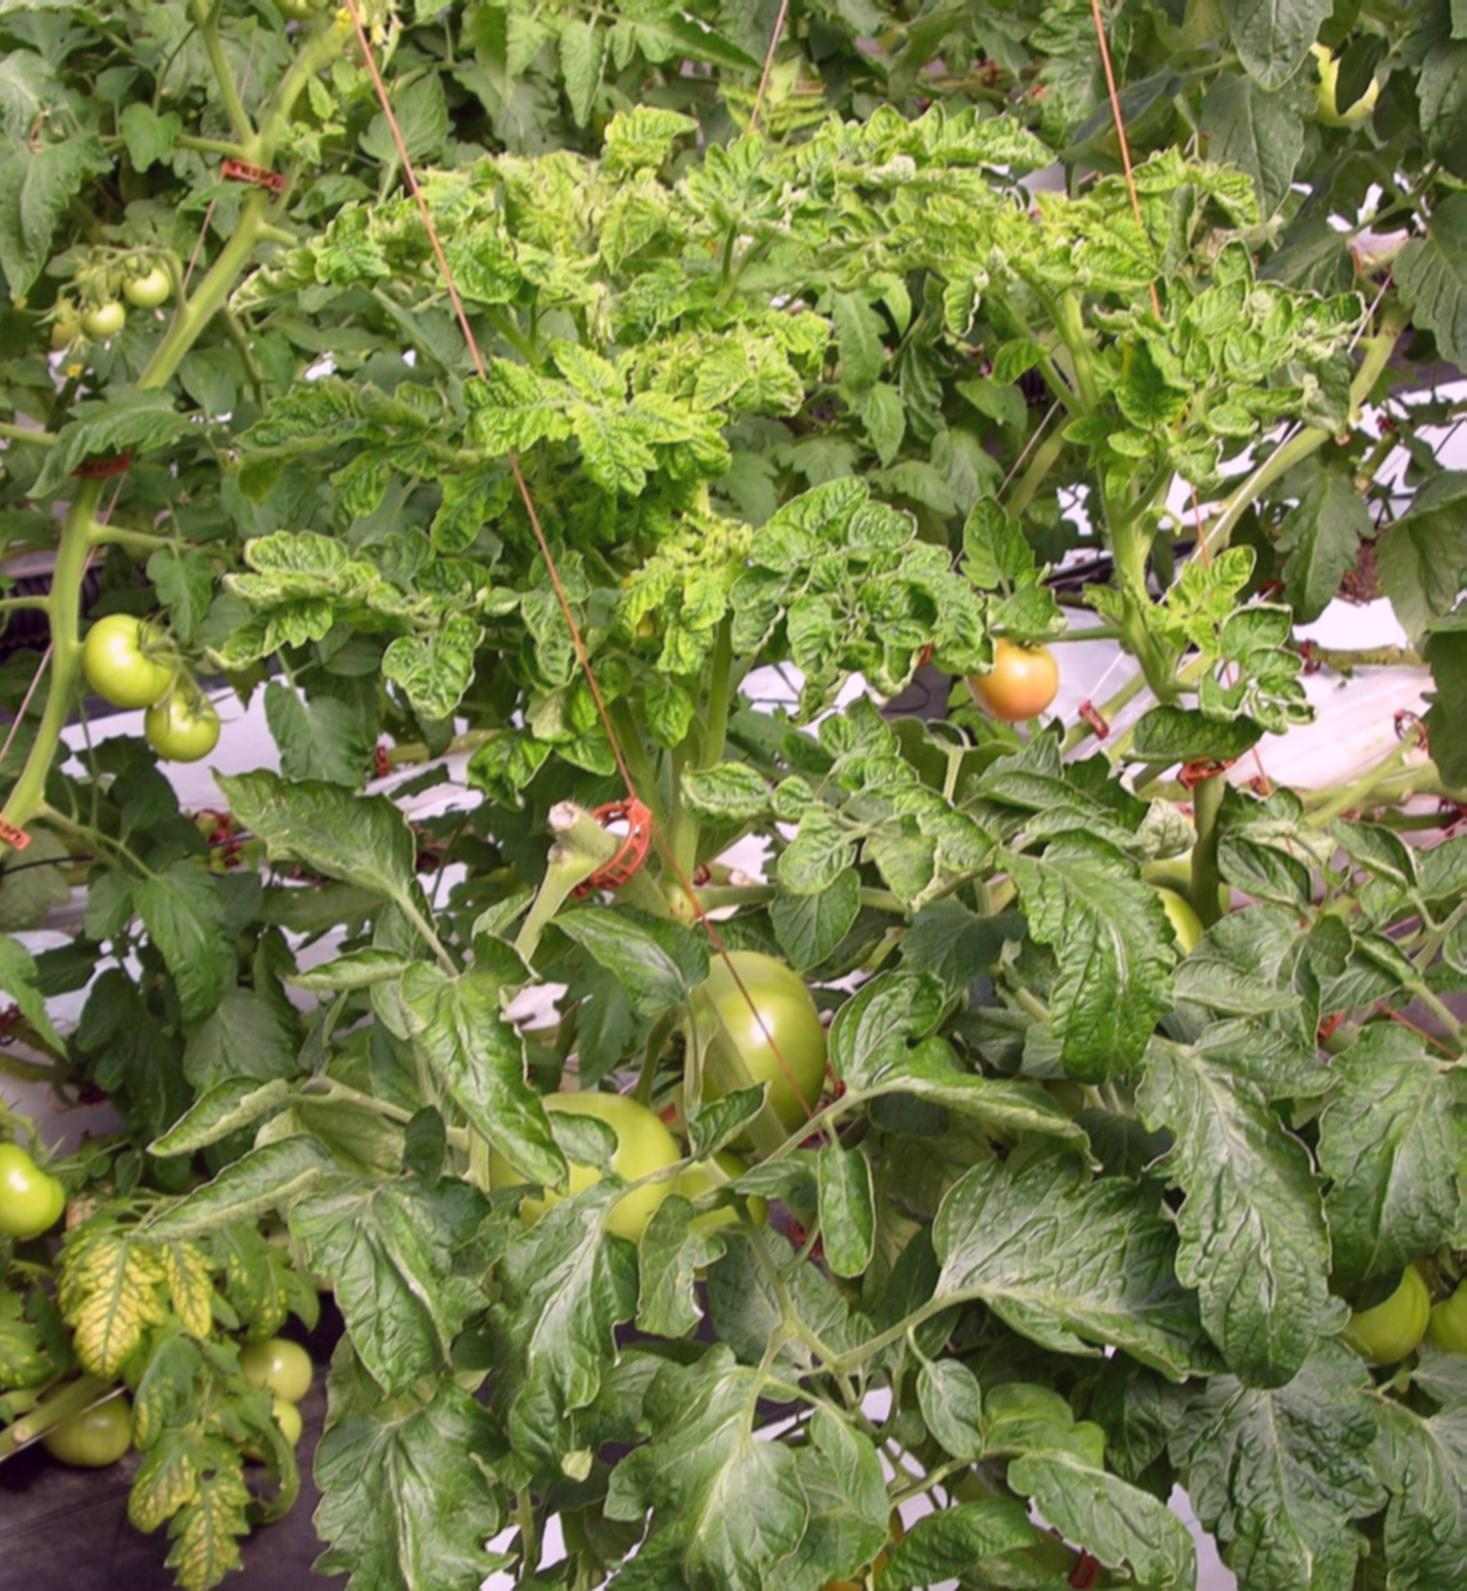Tomato leaf yellow virus: (1158, 1071, 1358, 1400), (982, 830, 1187, 1099), (125, 1335, 287, 1591), (212, 524, 393, 693), (58, 1208, 169, 1373), (359, 613, 506, 730), (684, 317, 827, 423), (436, 363, 578, 463), (680, 498, 756, 661), (954, 480, 1044, 603), (592, 183, 690, 288), (1110, 333, 1195, 434), (1177, 529, 1277, 615), (601, 553, 676, 667), (928, 244, 1000, 346), (579, 406, 654, 500), (1186, 276, 1258, 338)
